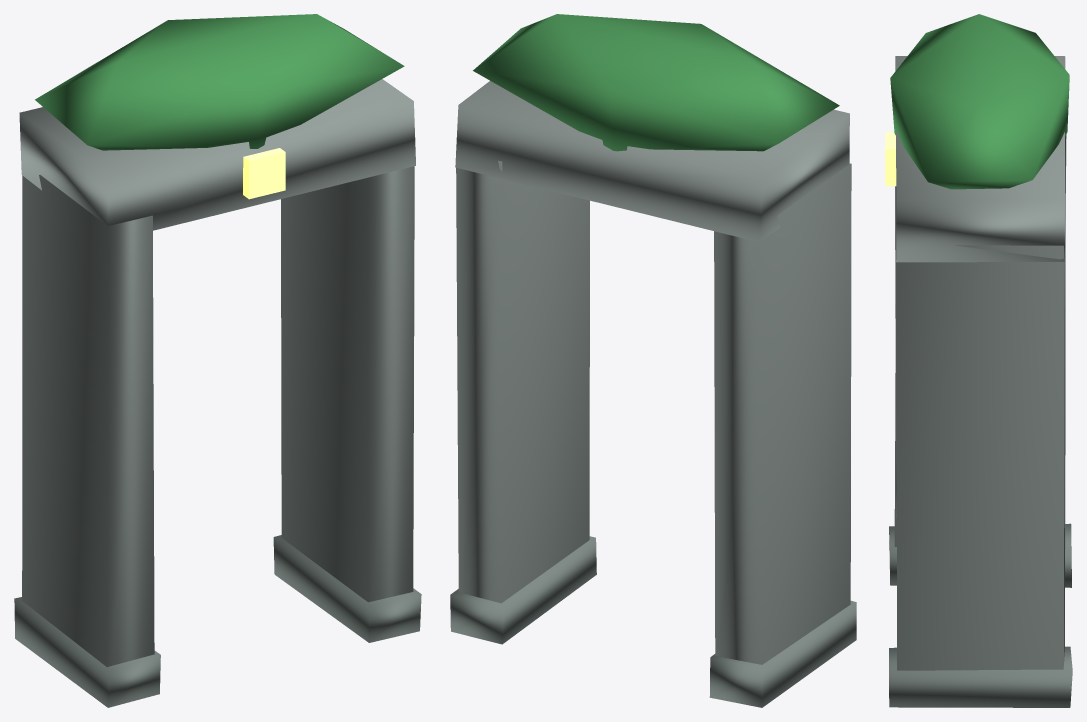
Rendered from stage1_wall_door.glb.
The picture shows the model from 3 angles, left to right: view 1: azimuth 30°, elevation 25°; view 2: azimuth 150°, elevation 25°; view 3: azimuth 270°, elevation 25°; orthographic projection. The views are drawn at different scales.
Parts seen in each view (by area): view 1: stage1_wall_door_stone, stage1_wall_door_hedge2, stage1_wall_door_stone2, stage1_wall_door_keystone; view 2: stage1_wall_door_stone, stage1_wall_door_hedge2, stage1_wall_door_stone2; view 3: stage1_wall_door_stone, stage1_wall_door_hedge2, stage1_wall_door_stone2, stage1_wall_door_keystone.
Part boxes in pixels (left/top/right/bottom): stage1_wall_door_stone: left=19, top=79, right=415, bottom=667; stage1_wall_door_hedge2: left=35, top=14, right=404, bottom=150; stage1_wall_door_stone2: left=14, top=535, right=421, bottom=707; stage1_wall_door_keystone: left=243, top=148, right=285, bottom=199; stage1_wall_door_stone: left=455, top=81, right=851, bottom=664; stage1_wall_door_hedge2: left=473, top=14, right=839, bottom=151; stage1_wall_door_stone2: left=450, top=536, right=856, bottom=707; stage1_wall_door_stone: left=894, top=56, right=1066, bottom=670; stage1_wall_door_hedge2: left=890, top=14, right=1069, bottom=189; stage1_wall_door_stone2: left=889, top=523, right=1072, bottom=707; stage1_wall_door_keystone: left=885, top=132, right=896, bottom=186.
Size of the model in its own units: 1.04 by 1.88 by 0.5536.
